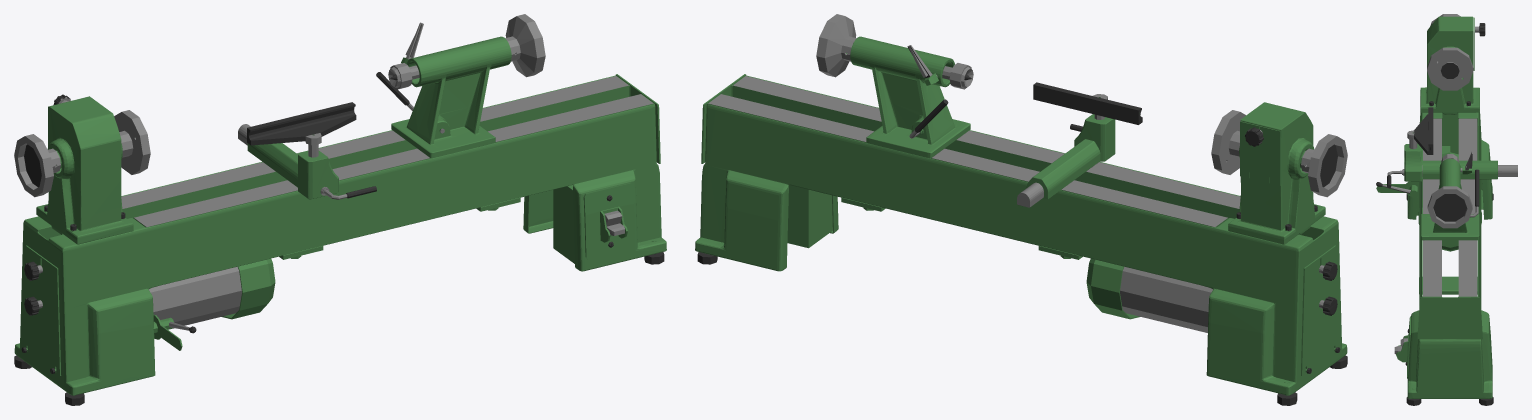
File: wood_turner.glb
The picture shows the model from 3 angles, left to right: view 1: azimuth 30°, elevation 25°; view 2: azimuth 150°, elevation 25°; view 3: azimuth 270°, elevation 25°; orthographic projection. The views are drawn at different scales.
Visible parts, largest first — view 1: 13605_Woodworking_Lathe_v1_L3, Cube; view 2: 13605_Woodworking_Lathe_v1_L3, Cube; view 3: 13605_Woodworking_Lathe_v1_L3, Cube.
Boxes of the visible parts, x1=… form: 13605_Woodworking_Lathe_v1_L3: x1=14, y1=74, x2=666, y2=405; Cube: x1=376, y1=14, x2=545, y2=158; 13605_Woodworking_Lathe_v1_L3: x1=695, y1=74, x2=1347, y2=405; Cube: x1=816, y1=14, x2=973, y2=158; 13605_Woodworking_Lathe_v1_L3: x1=1376, y1=14, x2=1517, y2=405; Cube: x1=1421, y1=151, x2=1479, y2=240.
Size of the model in its own units: 148 by 60.59 by 41.31.
